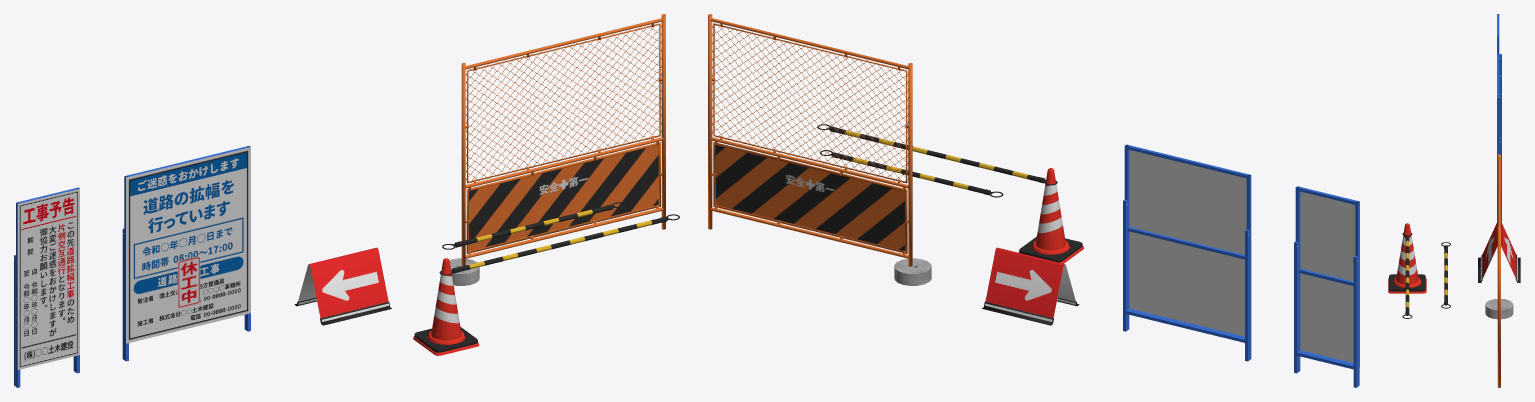
Rendered from Security equipment.fbx.
3 renders of one model, left to right at view 1: azimuth 30°, elevation 25°; view 2: azimuth 150°, elevation 25°; view 3: azimuth 270°, elevation 25°, orthographic. The views are drawn at different scales.
Parts seen in each view (by area): view 1: B-barricade, Signboard-L, Signboard-M, Arrow board, Colorcone, Conebar_2.0m, Magnet, Conebar_1.5m, Colorcone_weight, B-barricade_block; view 2: B-barricade, Signboard-L, Signboard-M, Arrow board, Colorcone, Conebar_2.0m, Conebar_1.5m, B-barricade_block, Colorcone_weight; view 3: Arrow board, Colorcone, B-barricade, Signboard-L, B-barricade_block, Conebar_2.0m, Colorcone_weight, Conebar_1.5m, Signboard-M.
Boxes of the visible parts, x1,y1,x2,y2 form: B-barricade: (461, 14, 665, 266); Signboard-L: (122, 146, 250, 361); Signboard-M: (14, 187, 79, 387); Arrow board: (294, 247, 391, 325); Colorcone: (413, 258, 479, 355); Conebar_2.0m: (439, 214, 679, 275); Magnet: (177, 256, 200, 308); Conebar_1.5m: (442, 202, 625, 249); Colorcone_weight: (414, 327, 477, 352); B-barricade_block: (449, 258, 479, 285); B-barricade: (708, 14, 912, 266); Signboard-L: (1123, 144, 1251, 361); Signboard-M: (1294, 186, 1359, 387); Arrow board: (982, 247, 1079, 325); Colorcone: (1019, 168, 1083, 263); Conebar_2.0m: (817, 124, 1057, 185); Conebar_1.5m: (819, 150, 1003, 197); B-barricade_block: (894, 258, 931, 285); Colorcone_weight: (1019, 236, 1082, 262); Arrow board: (1478, 221, 1520, 282); Colorcone: (1388, 223, 1426, 293); B-barricade: (1497, 154, 1500, 387); Signboard-L: (1497, 53, 1501, 222); B-barricade_block: (1485, 299, 1513, 319); Conebar_2.0m: (1402, 232, 1412, 318); Colorcone_weight: (1389, 274, 1425, 291); Conebar_1.5m: (1441, 242, 1450, 308); Signboard-M: (1497, 14, 1501, 93).
Bounding box in the file's own units: 573 × 180 × 135.
